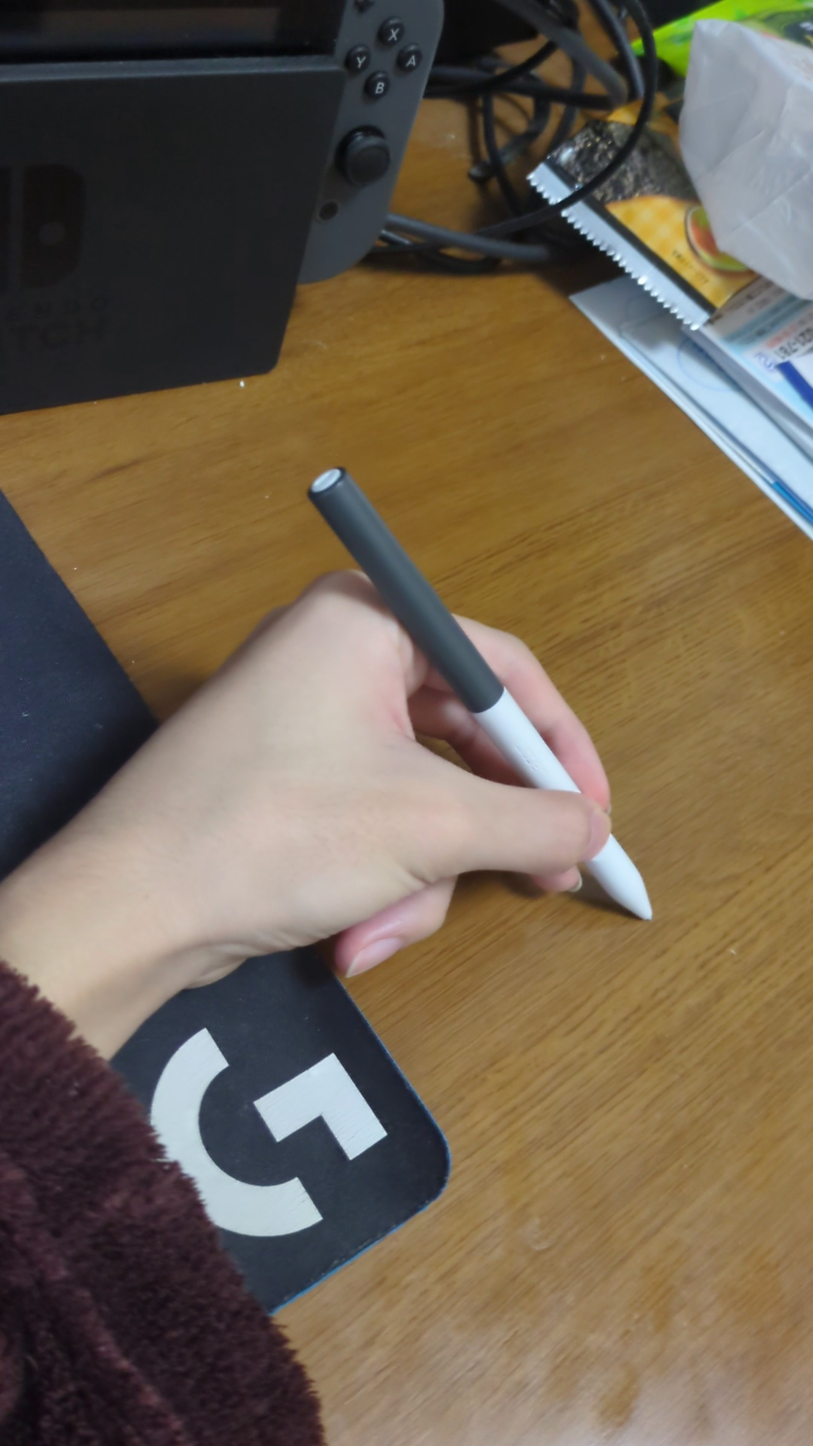pen: (306, 464, 662, 932)
tip: (634, 898, 670, 935)
